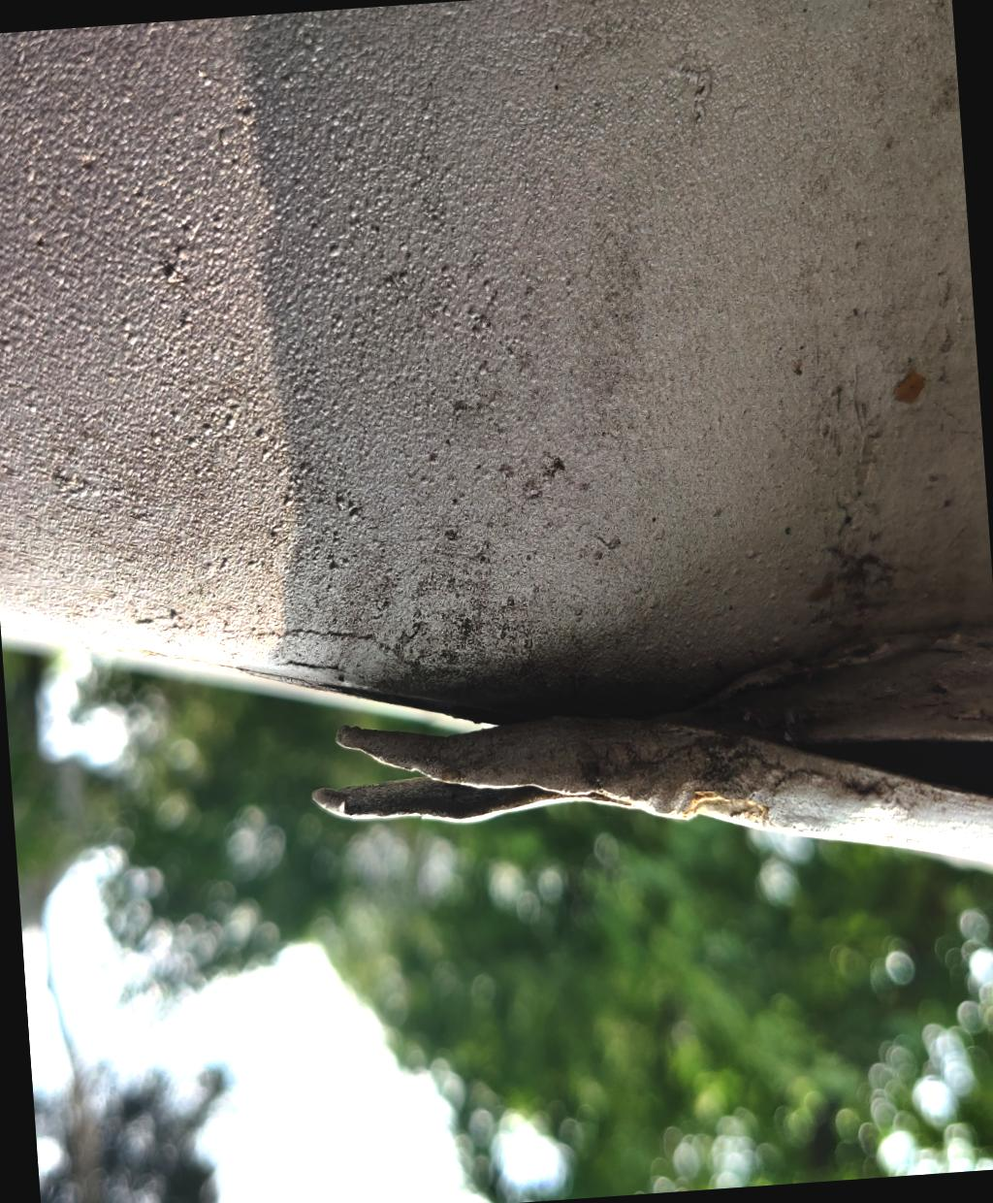crack: (288, 650, 644, 890)
